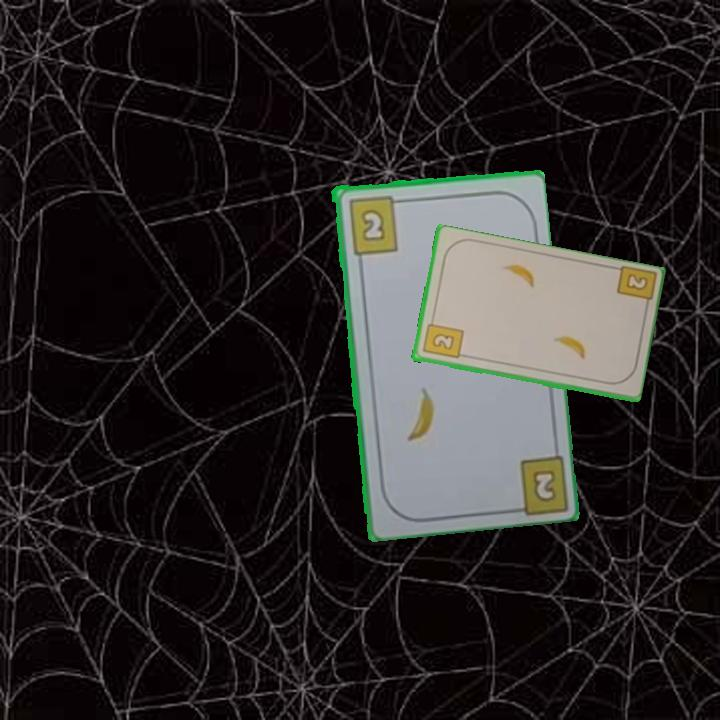2b: (344, 191, 406, 257), (419, 315, 466, 362), (613, 264, 657, 314), (532, 469, 556, 502)
